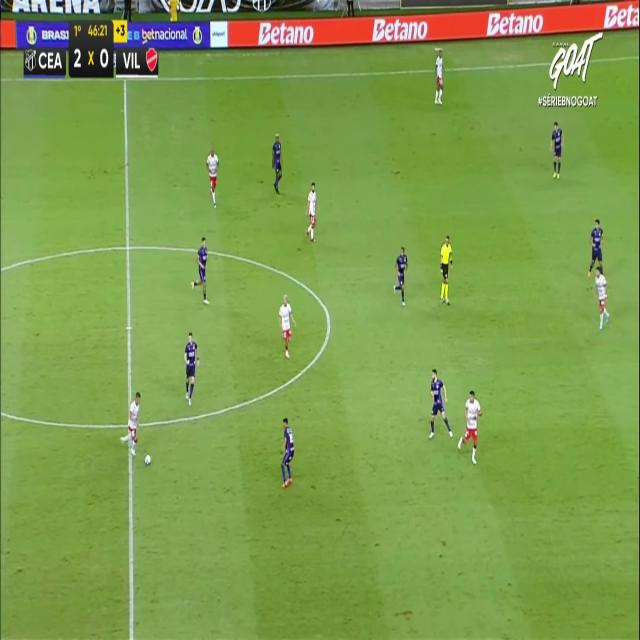ball: (145, 454, 151, 465)
goalkeeper: (439, 235, 453, 304)
player: (427, 367, 453, 439), (458, 389, 482, 464), (120, 390, 140, 455), (191, 236, 210, 304), (183, 332, 199, 406), (278, 294, 296, 359), (594, 265, 610, 329), (280, 417, 294, 488), (588, 218, 604, 277), (393, 245, 408, 306), (549, 121, 563, 179), (206, 147, 219, 208), (305, 181, 317, 242), (272, 132, 282, 194), (434, 49, 444, 105)
